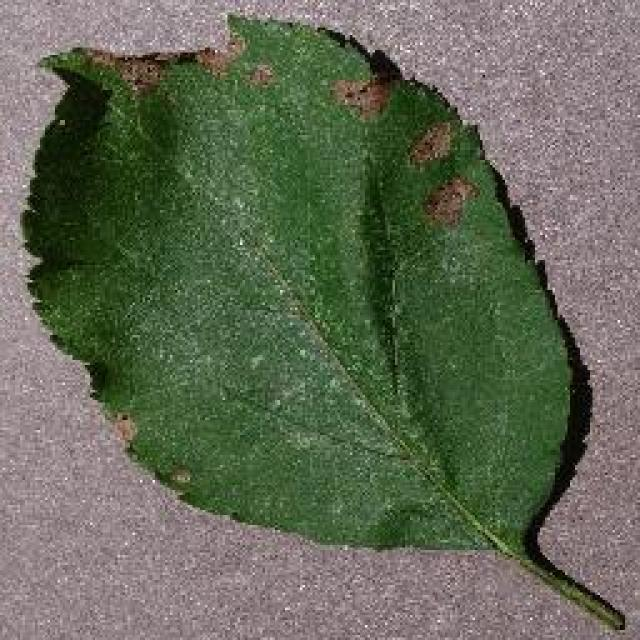apple black rot: (17, 10, 625, 630)
